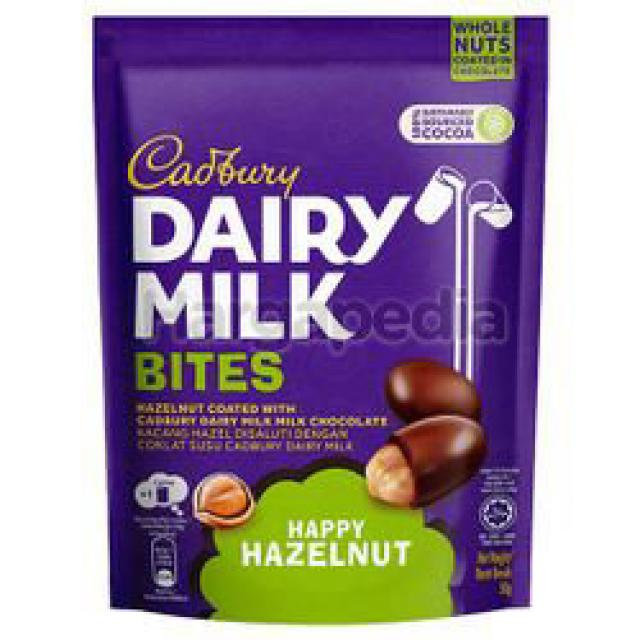cadbury: (92, 11, 548, 617)
